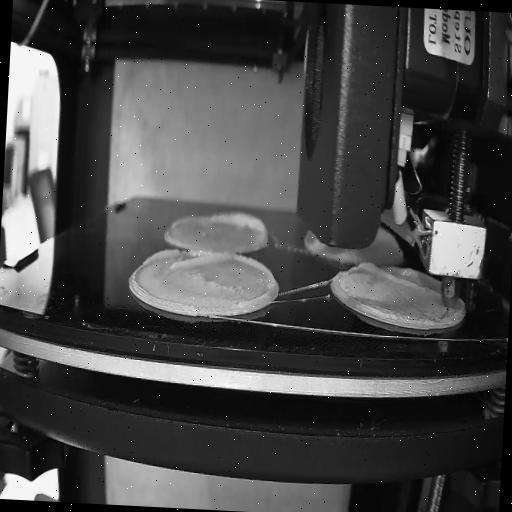over_extrusion: (350, 260, 438, 296), (141, 244, 230, 278), (230, 252, 278, 310), (209, 206, 270, 246)
